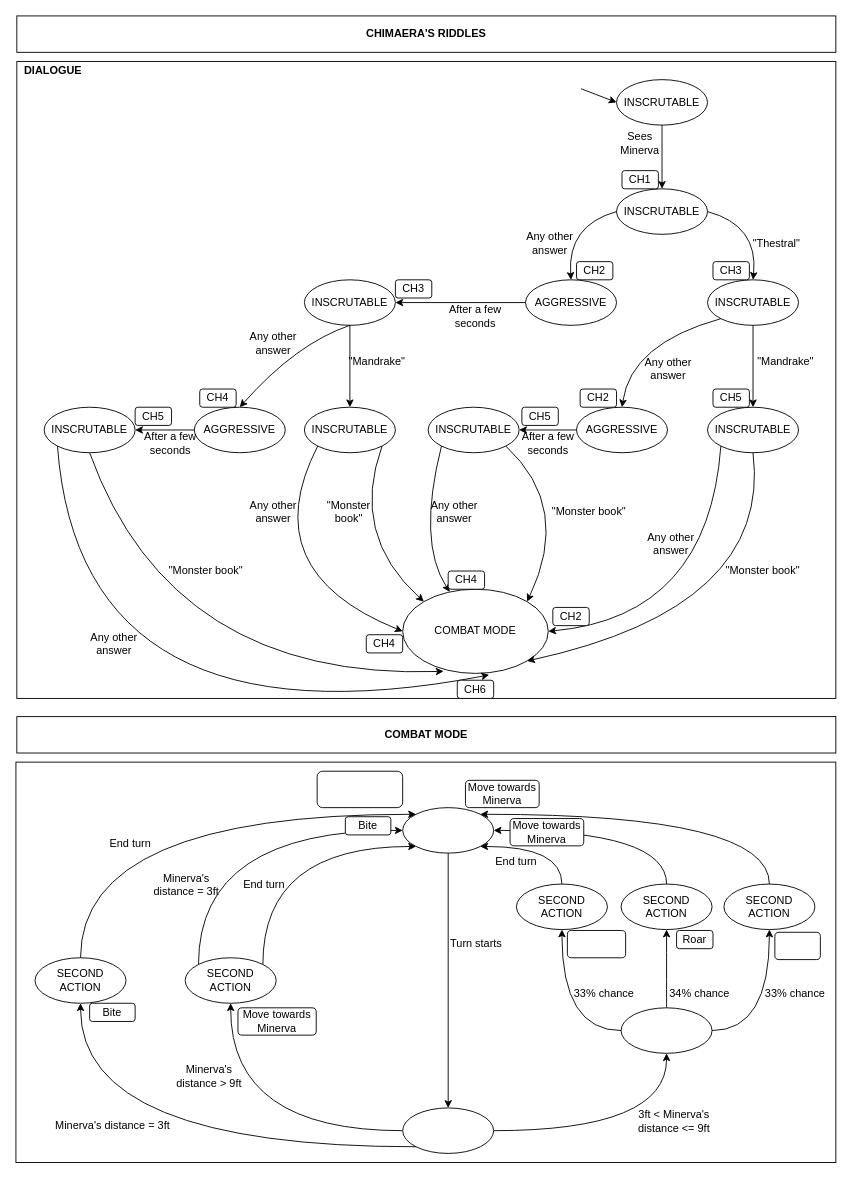
This 852x1178 diagram has some shape labels left out. Each missing label, with the centre of its shape:
Battering Ram: the point at 596,944
Fire Breath: the point at 797,945
FIRST ACTION: the point at 448,1130
FIRST ACTION RANGE ATTACK: the point at 666,1030
Retreat 3ft away from Minerva: the point at 359,789
WAIT TURN: the point at 448,830
